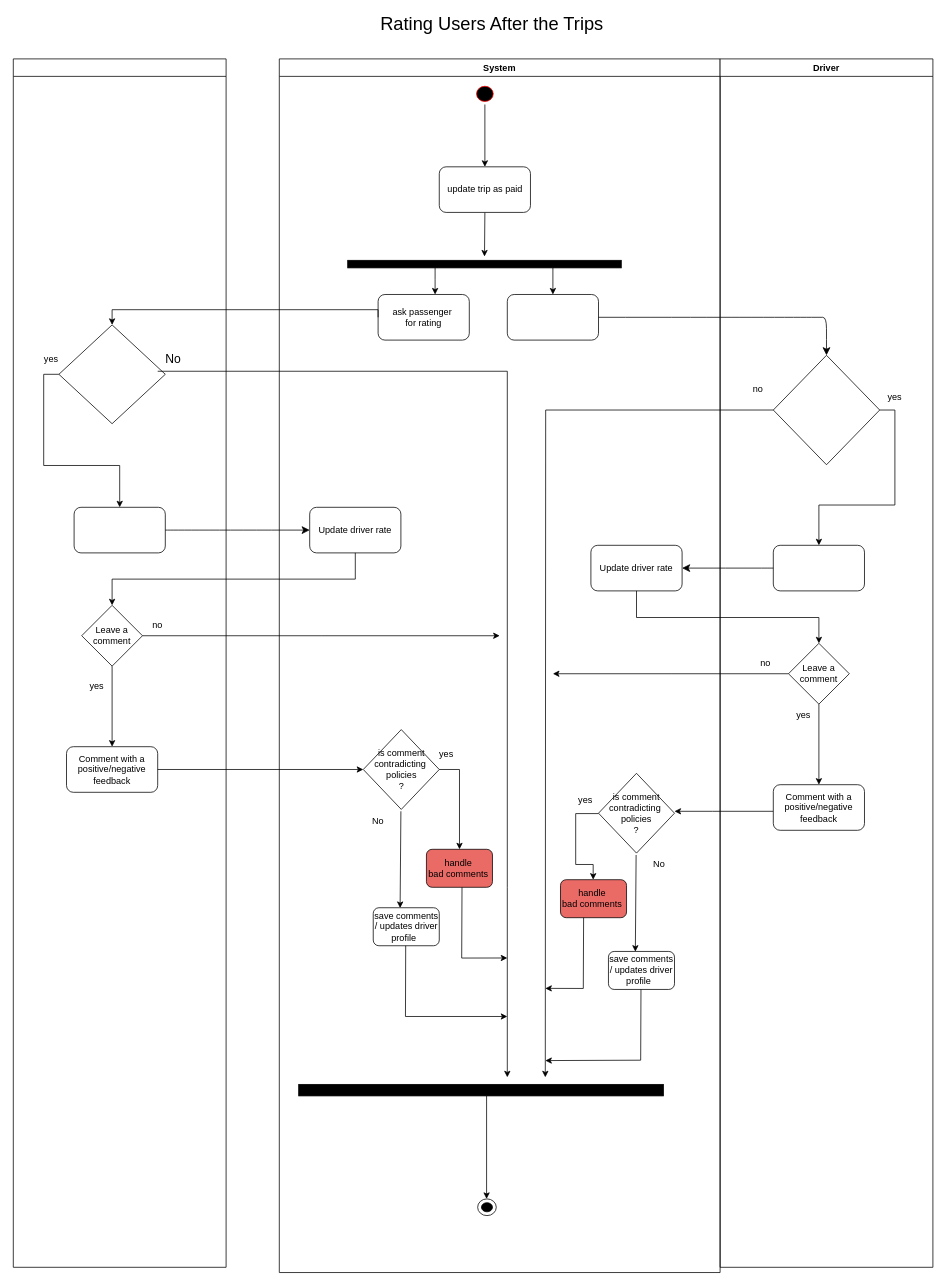
This 946x1286 diagram has some shape labels left out. Here are the shapes that lost their labels. From the top down, the box of each, then its label:
(507, 294, 598, 340): ask driver for rating
(58, 324, 165, 424): rate driver?
(773, 355, 880, 465): rate passenger?
(73, 507, 165, 553): Rate the driver
(773, 545, 864, 591): Rate the passenger
(13, 58, 226, 1267): Passenger
